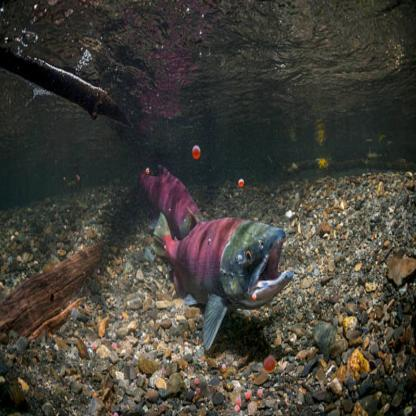sockeye: (145, 211, 286, 320)
